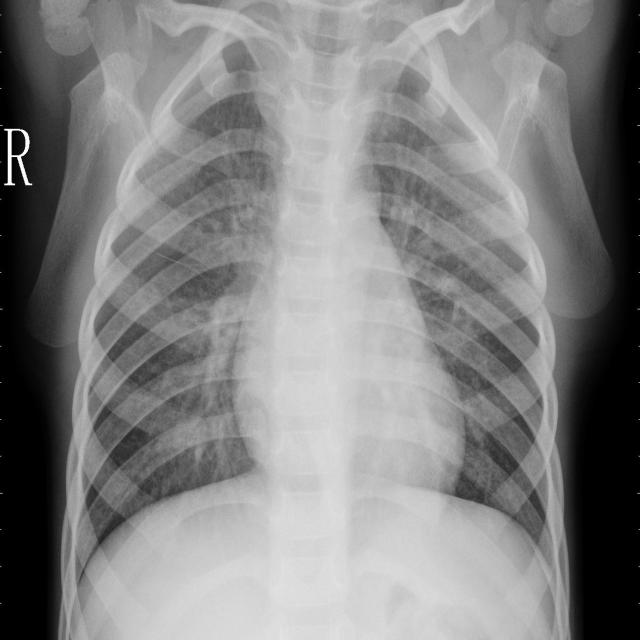low-pneumonia: (390, 142, 503, 325), (146, 130, 275, 280), (142, 296, 248, 474)
